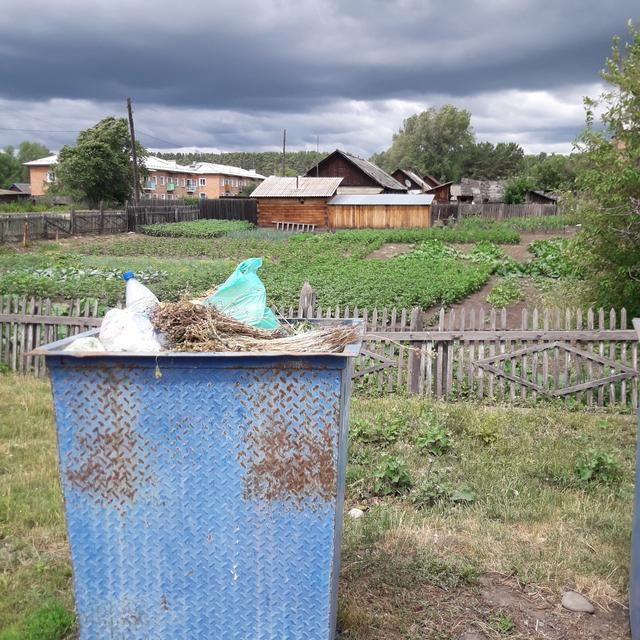Trash_Can_Full: (25, 256, 366, 640)
